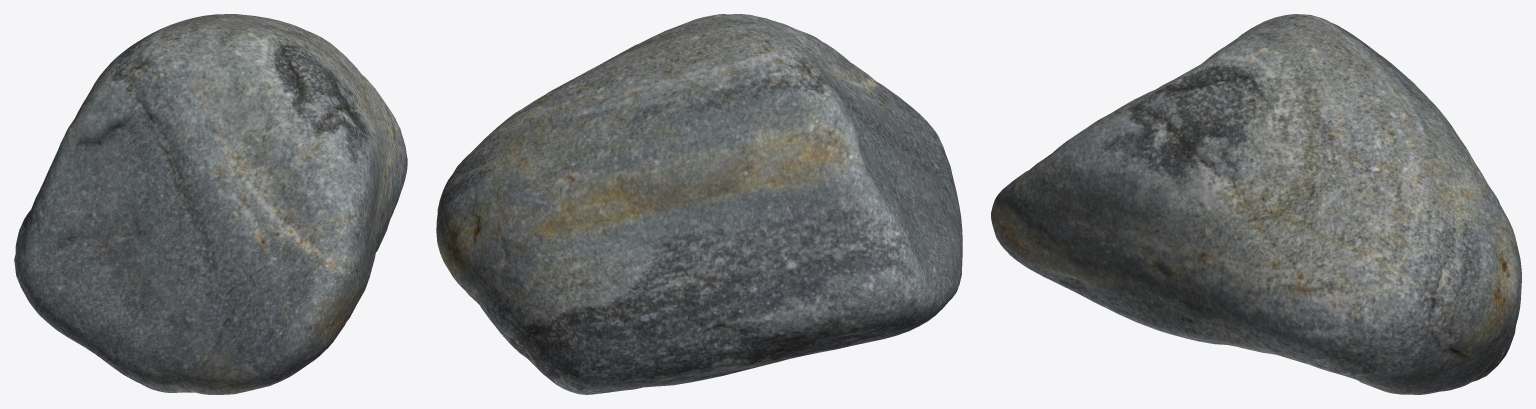
3 views of the same model, side by side, from view 1: azimuth 30°, elevation 25°; view 2: azimuth 150°, elevation 25°; view 3: azimuth 270°, elevation 25° (orthographic). The views are drawn at different scales.
Visible parts, largest first — view 1: rock-018; view 2: rock-018; view 3: rock-018.
Boxes of the visible parts, box(x1,y1,x2,y2) form: rock-018: box(14, 14, 407, 394); rock-018: box(436, 14, 962, 394); rock-018: box(991, 14, 1521, 394).
Bounding box in the file's own units: 1.86 × 1.32 × 2.
1 material, 1 textured.
